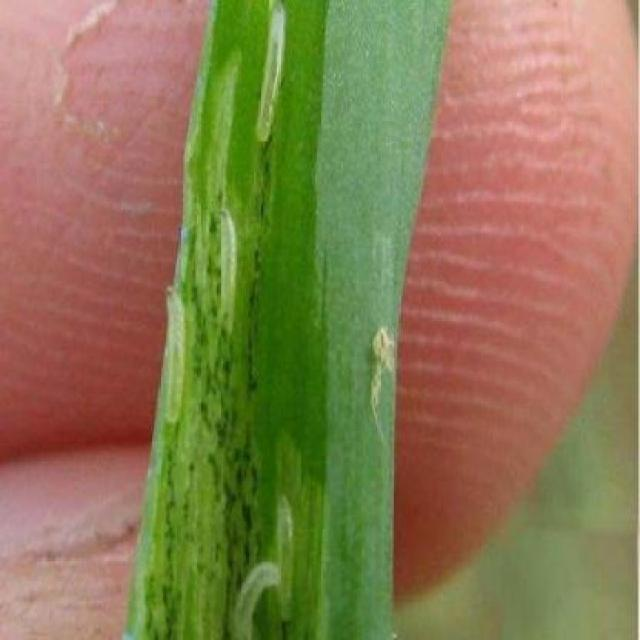whorl-maggot: (249, 0, 291, 160), (222, 558, 282, 640), (271, 486, 303, 614), (165, 277, 189, 438), (215, 192, 237, 337)
